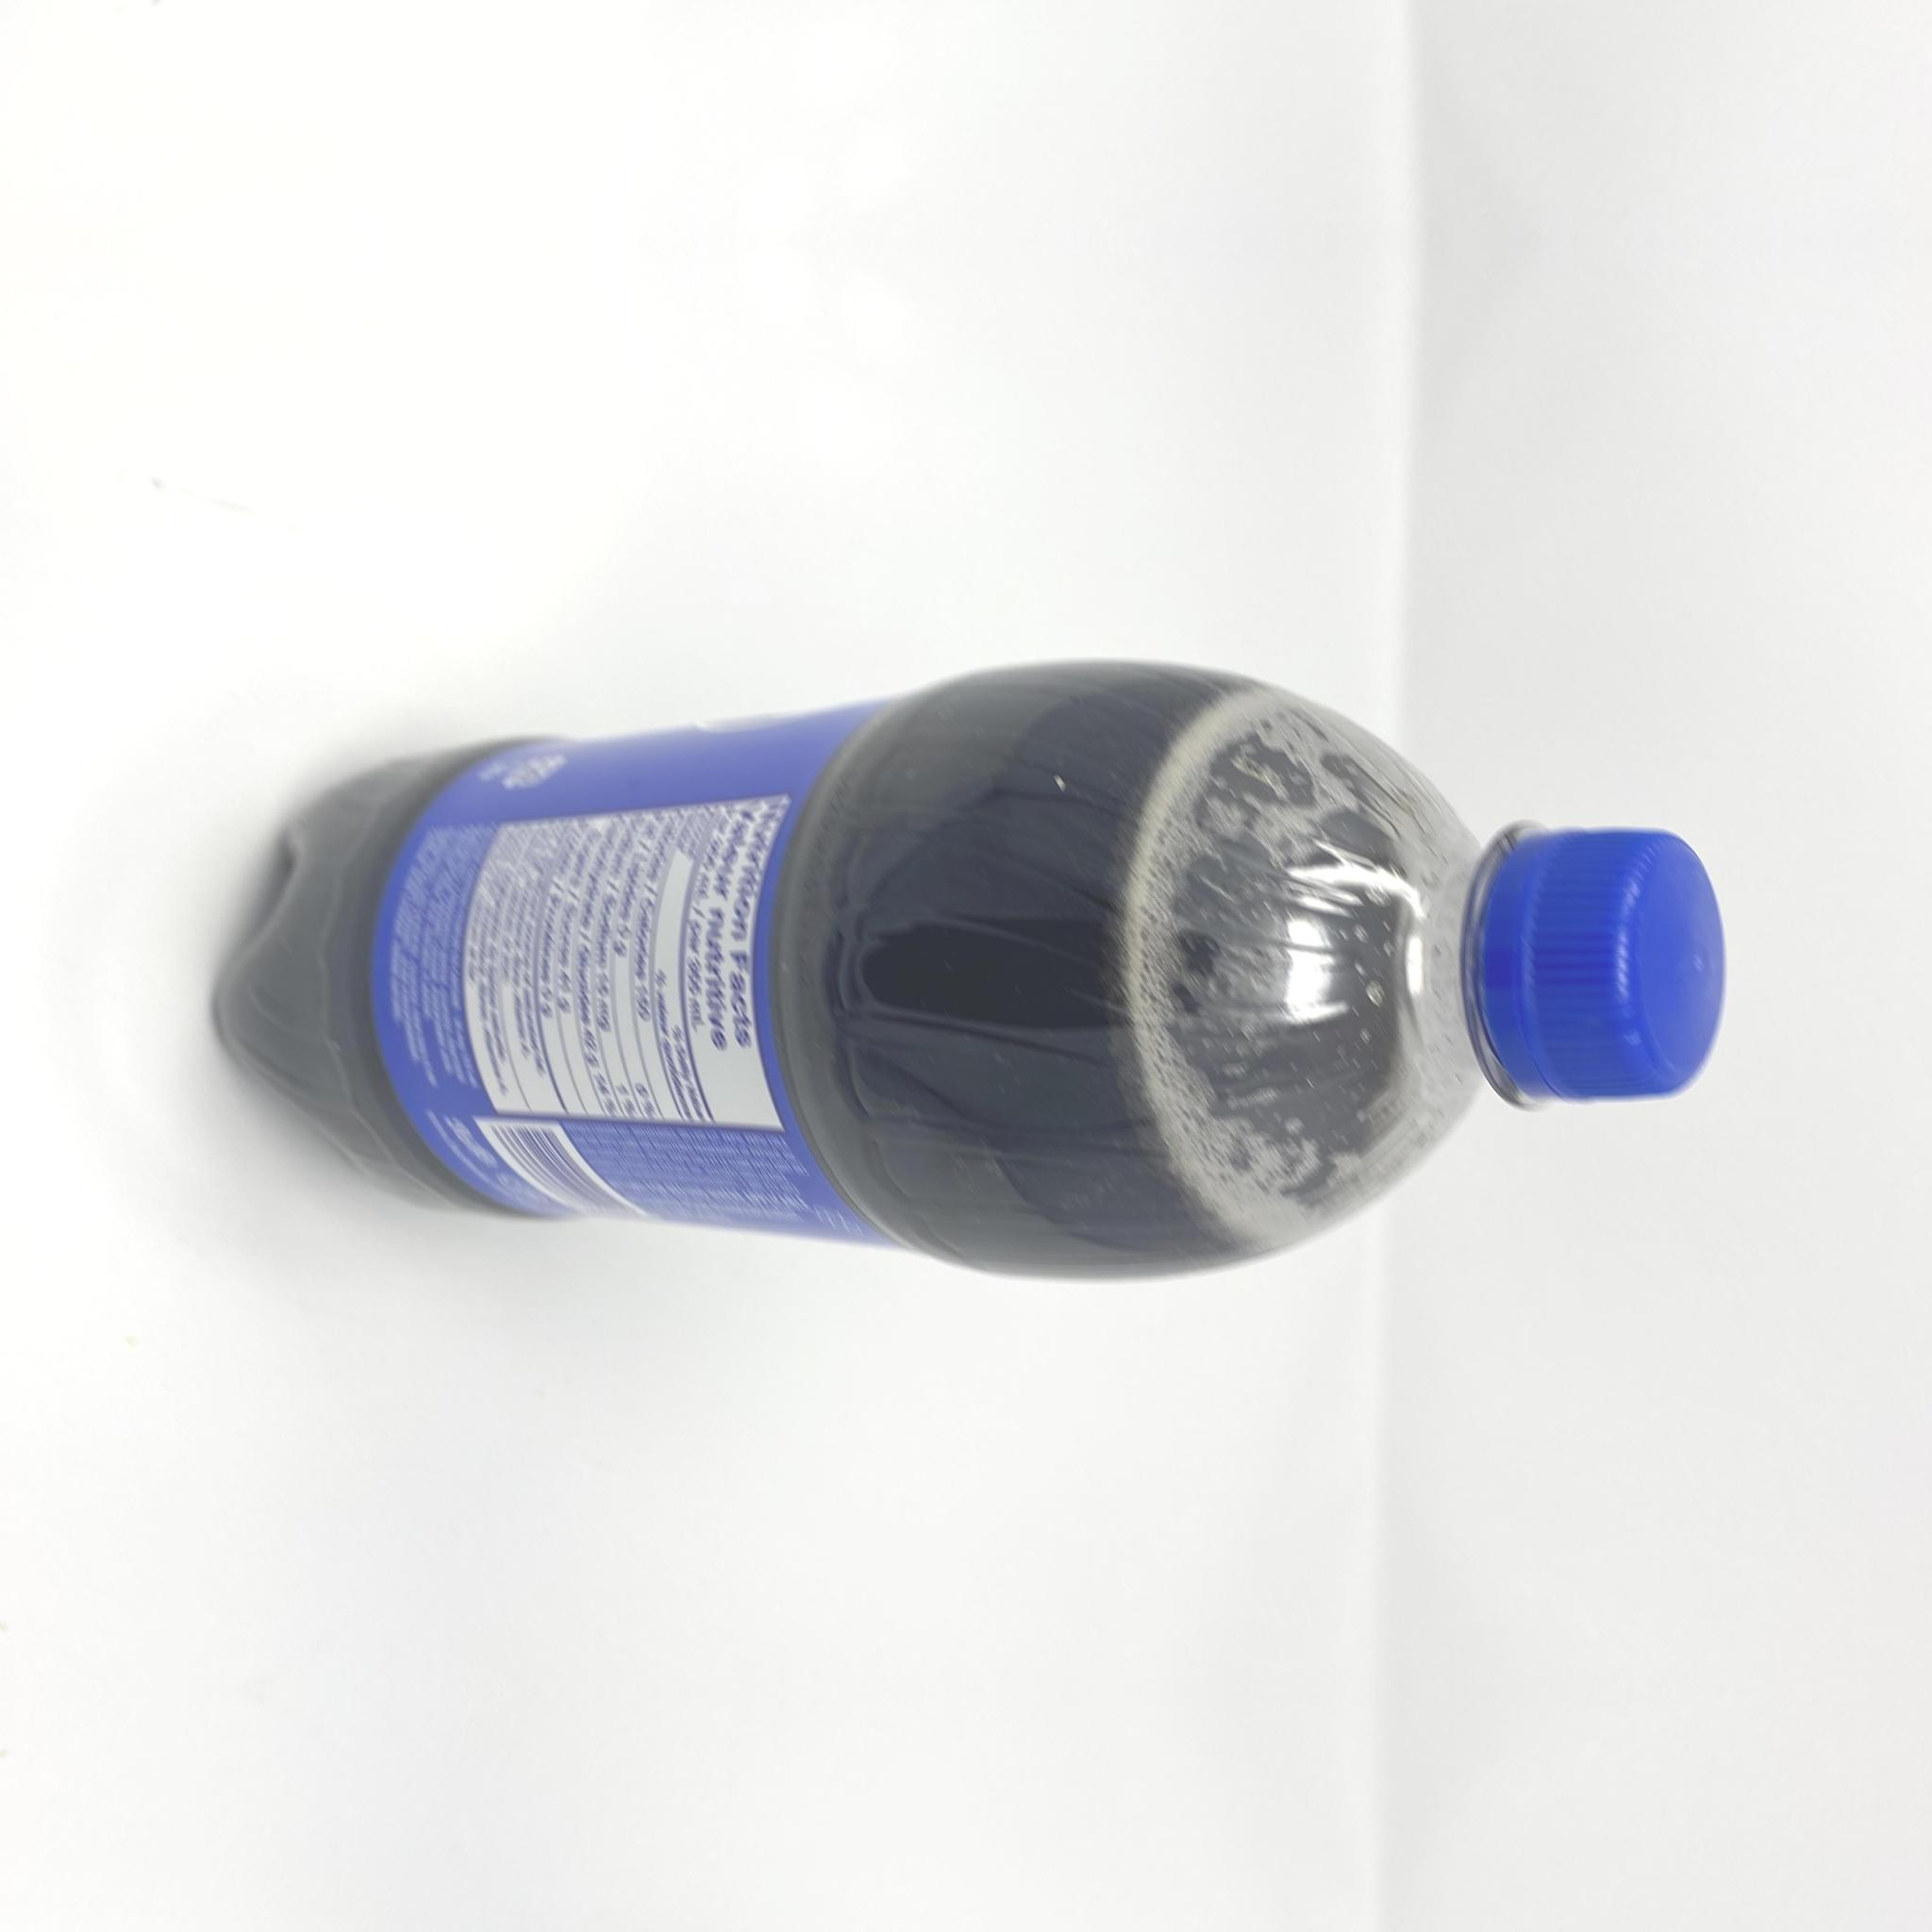PET: (209, 655, 1727, 1283)
pepsi: (209, 655, 1727, 1283)
plastic: (209, 655, 1727, 1283)
soft-drink: (209, 655, 1727, 1283)
